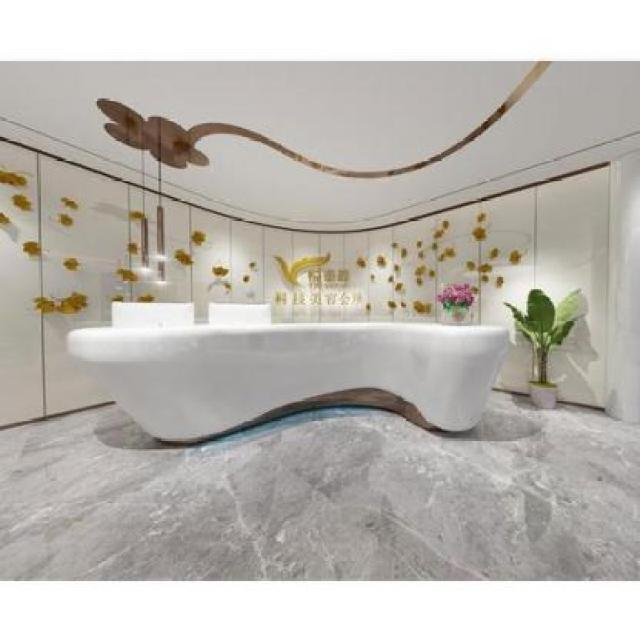frontdesk: (58, 286, 514, 454)
